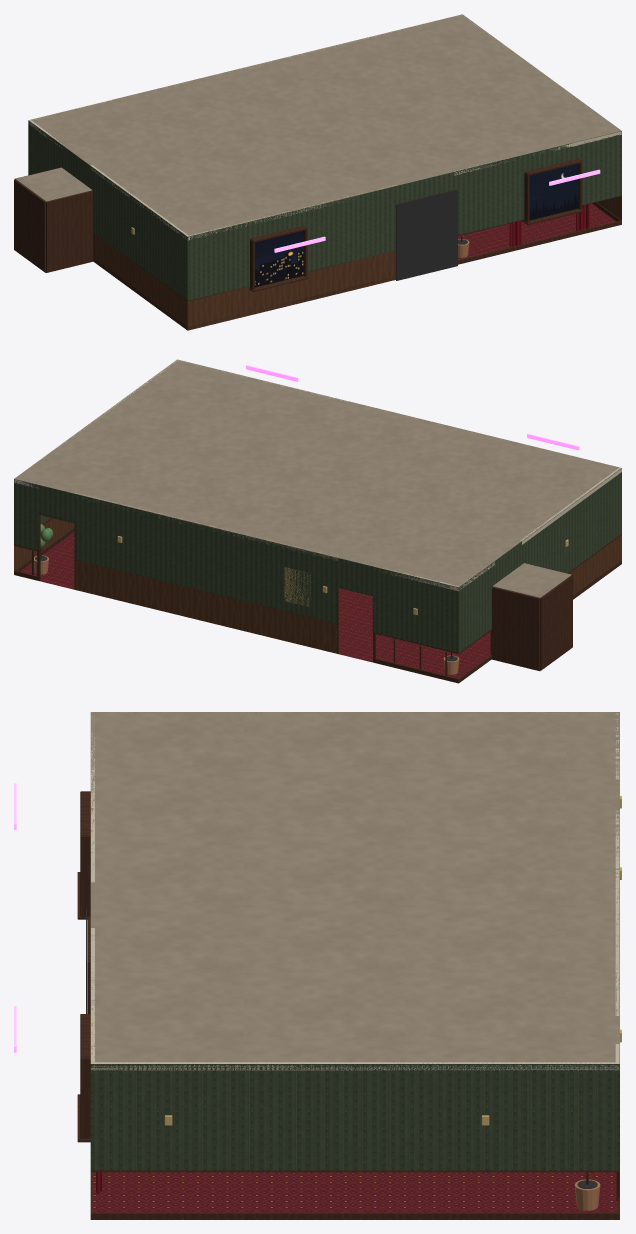
File: lobby.glb
3 renders of one model, top to bottom at view 1: azimuth 30°, elevation 25°; view 2: azimuth 150°, elevation 25°; view 3: azimuth 270°, elevation 25°, orthographic. The views are drawn at different scales.
Parts seen in each view (by area): view 1: Lobby; view 2: Lobby; view 3: Lobby.
Part boxes in pixels (<box>): Lobby: <box>14,14,621,330</box>; Lobby: <box>14,359,621,683</box>; Lobby: <box>14,712,621,1219</box>.
Bounding box in the file's own units: 17.24 × 3.24 × 11.32.
85 materials, 71 textured.
